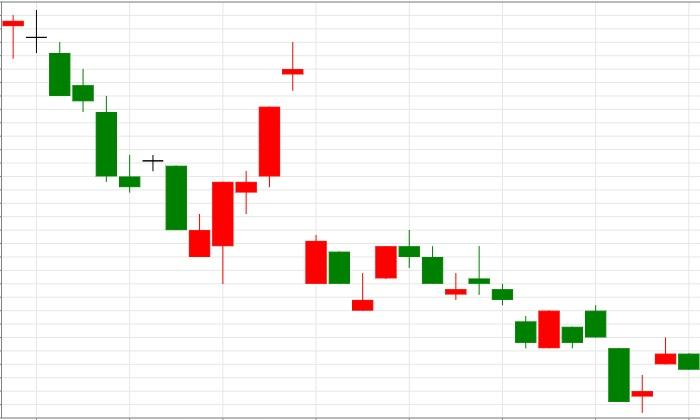bullish_engulfing_rise: (399, 229, 560, 348)
